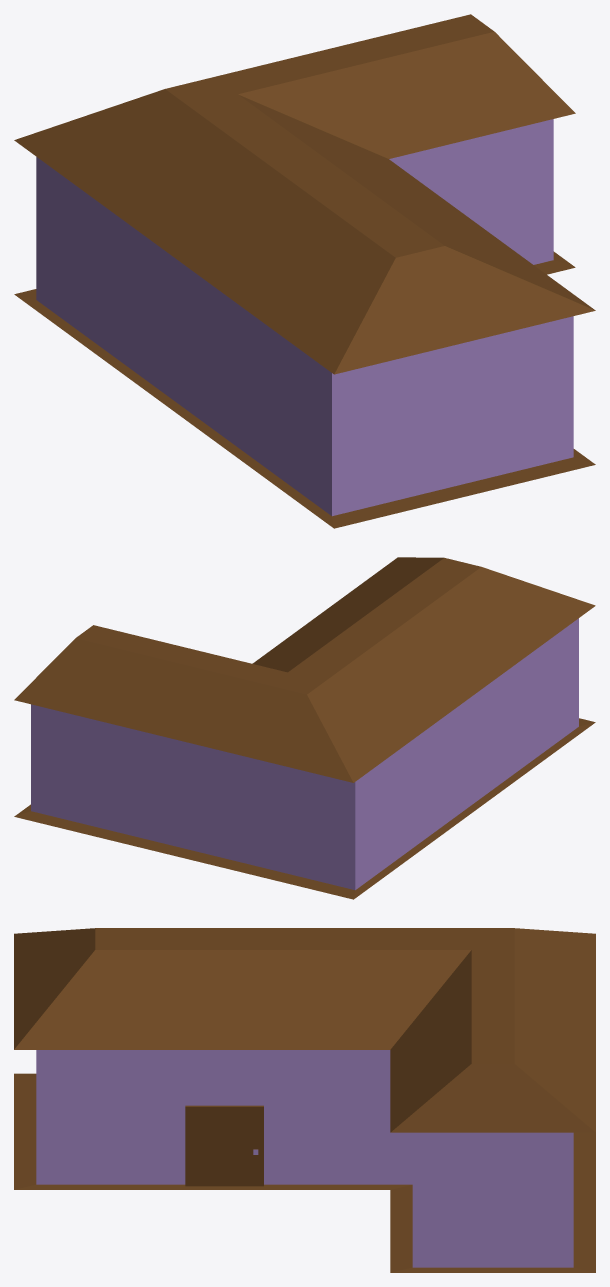
The model's file is House.fbx.
3 renders of one model, top to bottom at view 1: azimuth 30°, elevation 25°; view 2: azimuth 150°, elevation 25°; view 3: azimuth 270°, elevation 25°, orthographic. The views are drawn at different scales.
Visible parts, largest first — view 1: Plane; view 2: Plane; view 3: Plane.
Part boxes in pixels (x1,y1,x2,y2): Plane: [14, 14, 595, 528]; Plane: [14, 557, 595, 899]; Plane: [14, 928, 595, 1272].
Size of the model in its own units: 343 by 155 by 424.
